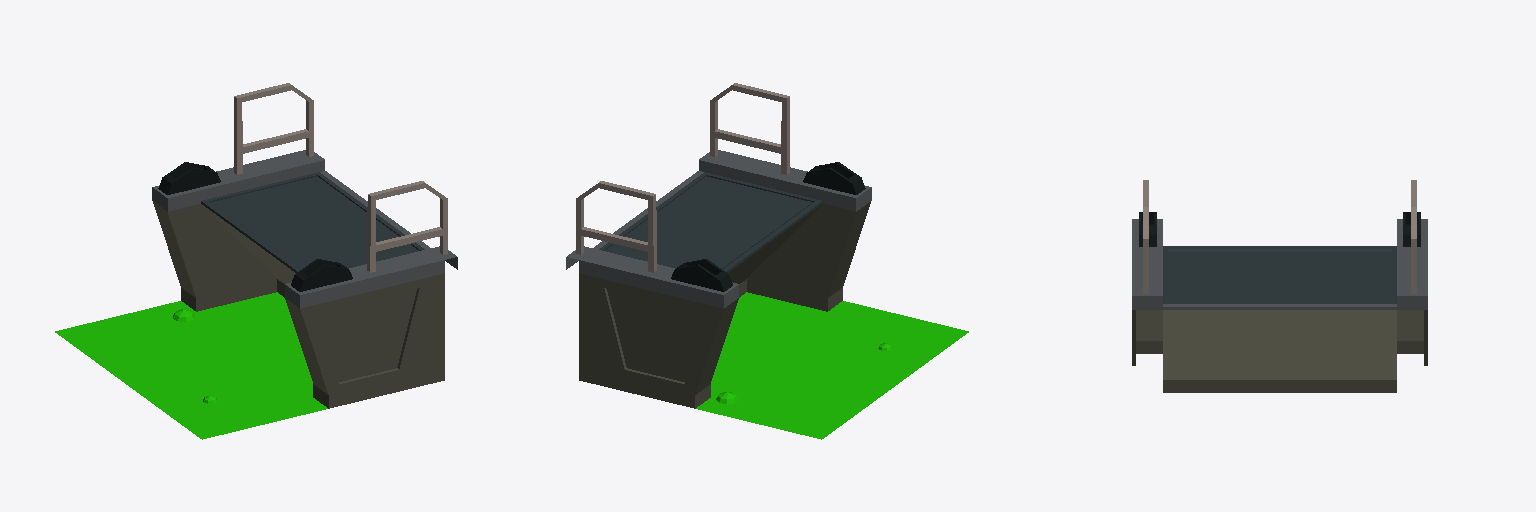
3 renders of one model, left to right at view 1: azimuth 30°, elevation 25°; view 2: azimuth 150°, elevation 25°; view 3: azimuth 270°, elevation 25°, orthographic.
Visible parts, largest first — view 1: Plane; view 2: Plane; view 3: Plane.
Part boxes in pixels (x1,y1,x2,y2): Plane: (55,83,457,439); Plane: (566,83,968,439); Plane: (1132,180,1427,392).
Size of the model in its own units: 2 by 1.47 by 2.
Materials: 1 (1 with a texture image).